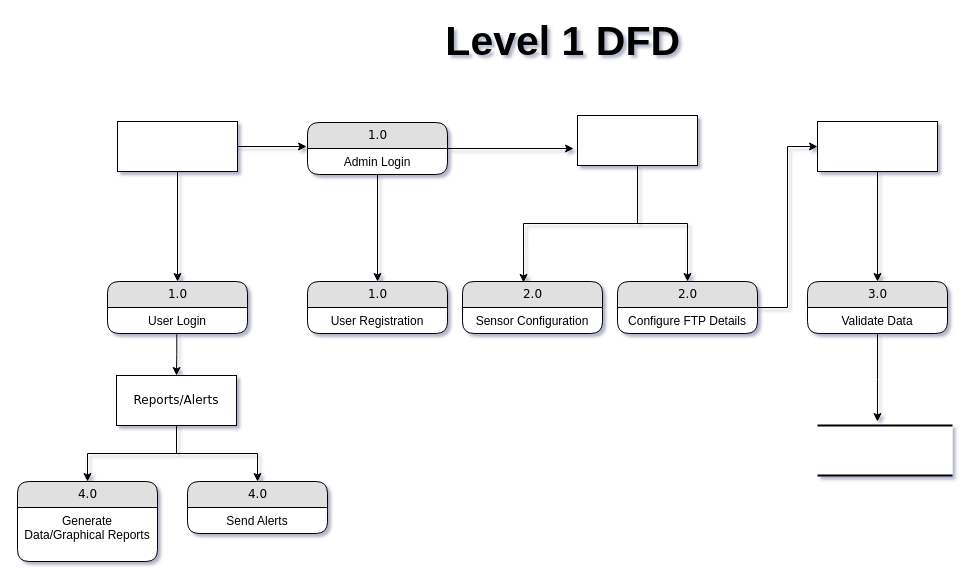
Some shapes in this 977 by 585 pixel diagram are drawn without their labels. Here are the shapes that lost their labels. From the top down, the box of each, then its label:
(116, 120, 238, 172): Authentication
(576, 114, 698, 166): Configuration
(816, 120, 938, 172): Data Formation
(816, 424, 953, 476): Database
